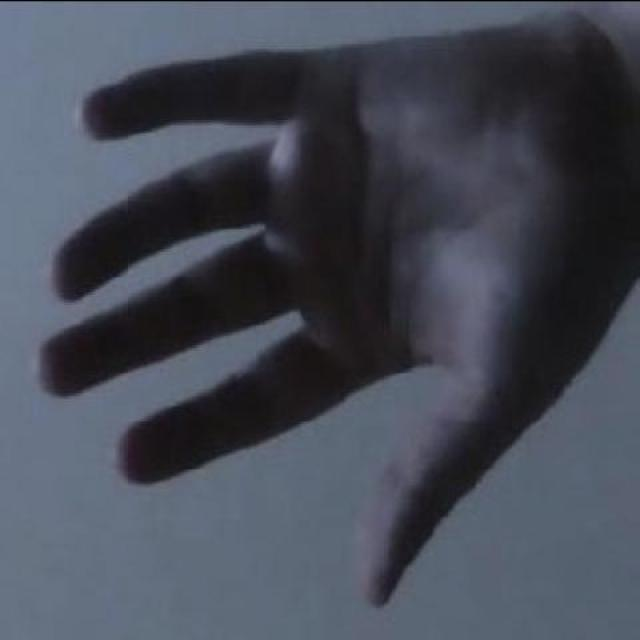Open Hand: (29, 9, 640, 610)
